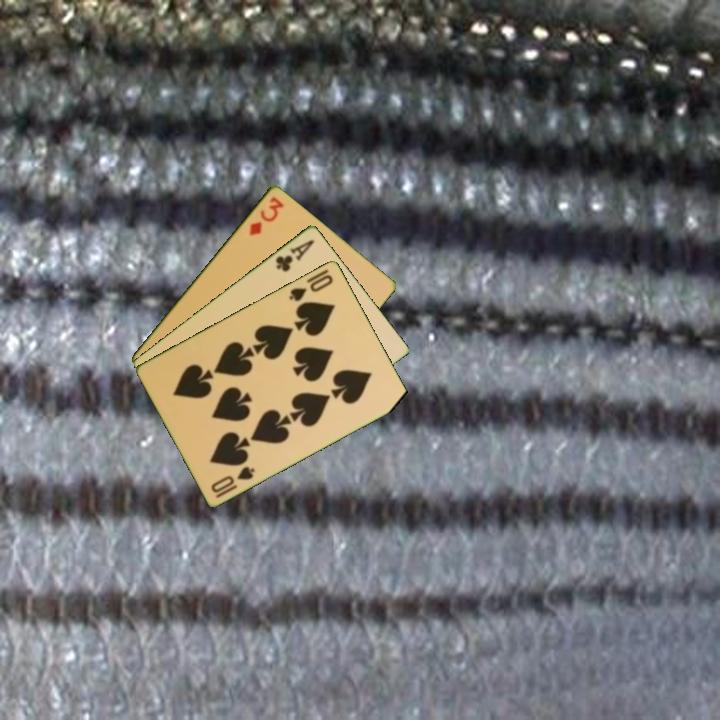10s: (207, 462, 258, 501), (285, 270, 336, 304)
3d: (245, 192, 287, 239)
Ac: (272, 235, 317, 275)
